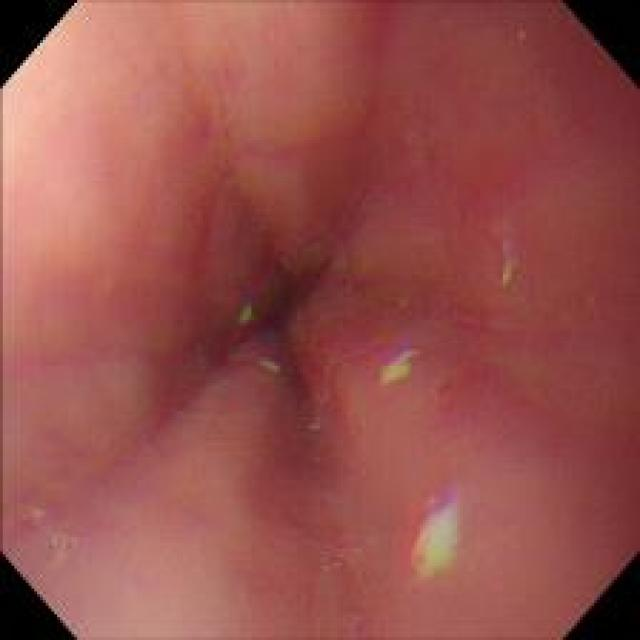blur: (2, 4, 638, 636), (492, 214, 522, 298)
color misalignment: (398, 485, 461, 585), (368, 332, 415, 385), (219, 350, 282, 380), (228, 290, 255, 346)
